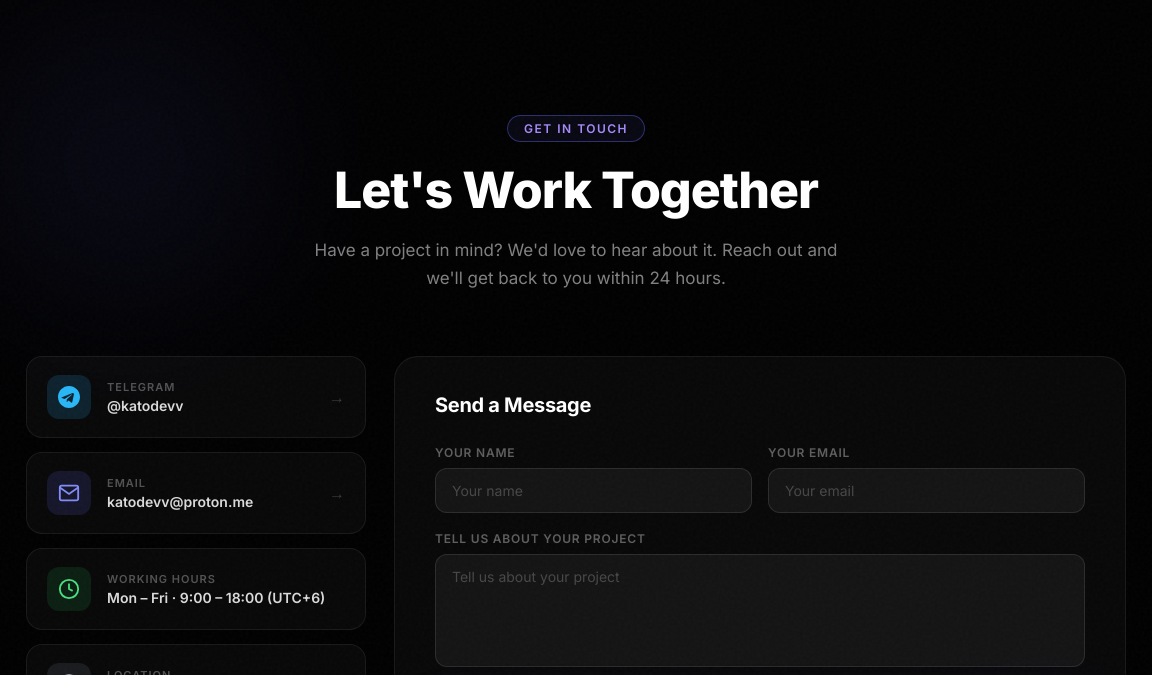
Test: shows an error message when the request fails
Type "Ada" into the field with placeholder "Your name" at (594, 491), box 435,468 -> 752,513
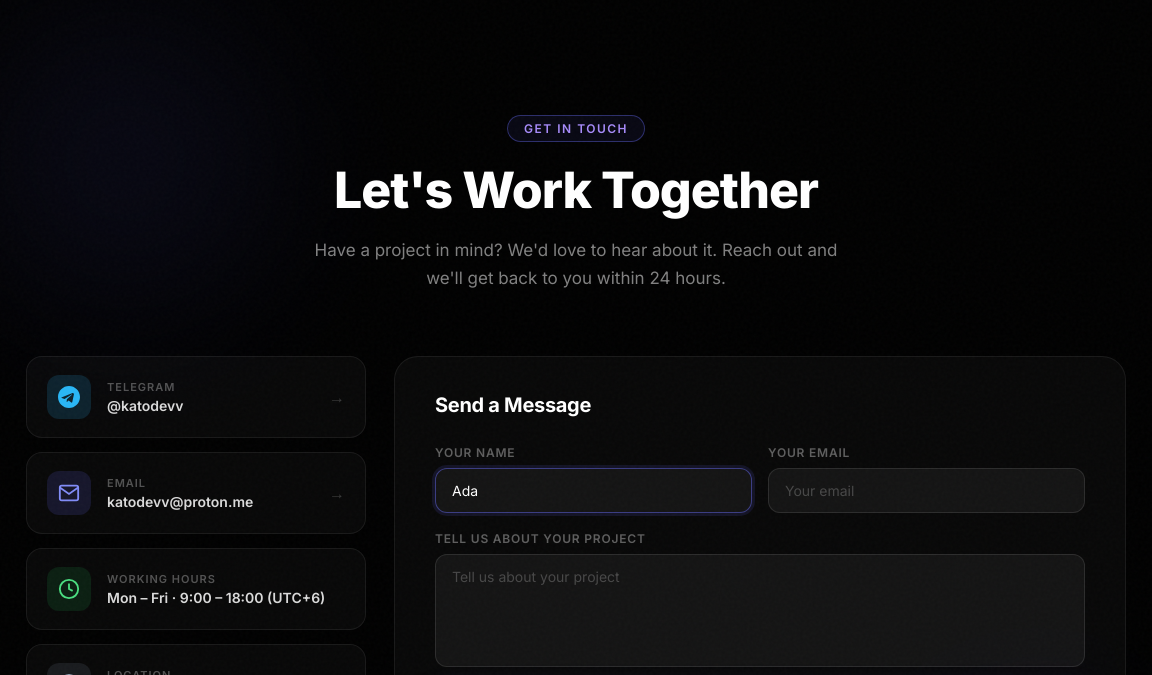
Type "ada@example.com" into the field with placeholder "Your email" at (926, 491), box 768,468 -> 1085,513
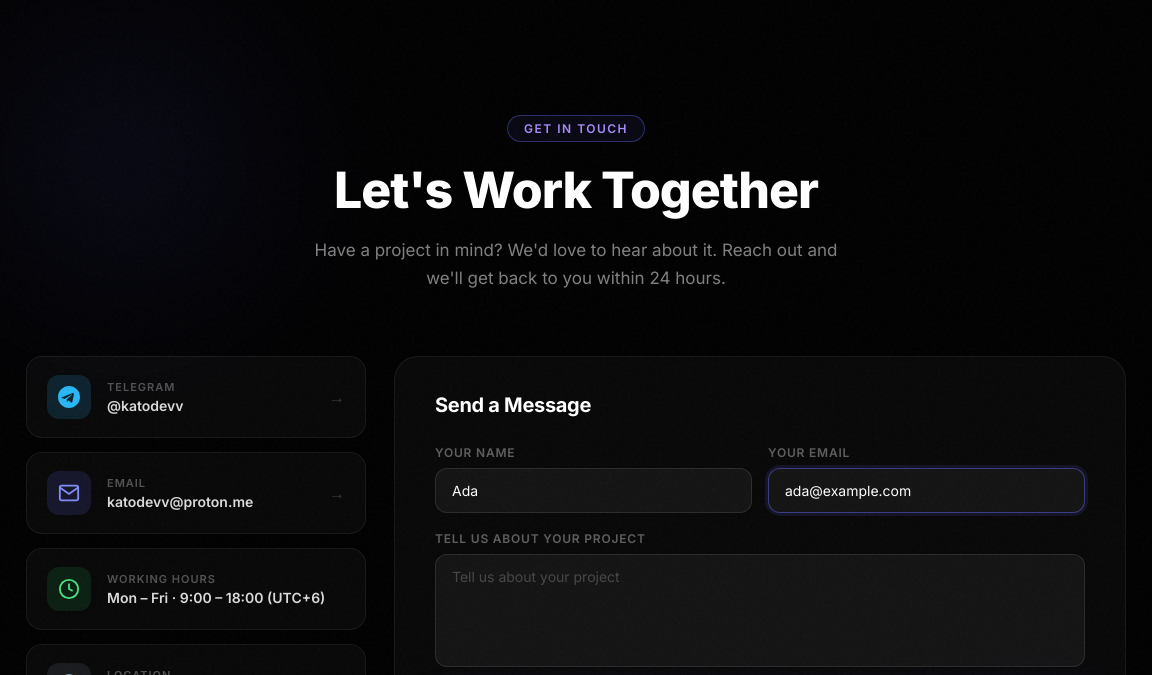
Type "I need a landing page for my shop." into the text box with placeholder "Tell us about your project" at (760, 611), box 435,554 -> 1085,667
(page scrolled)
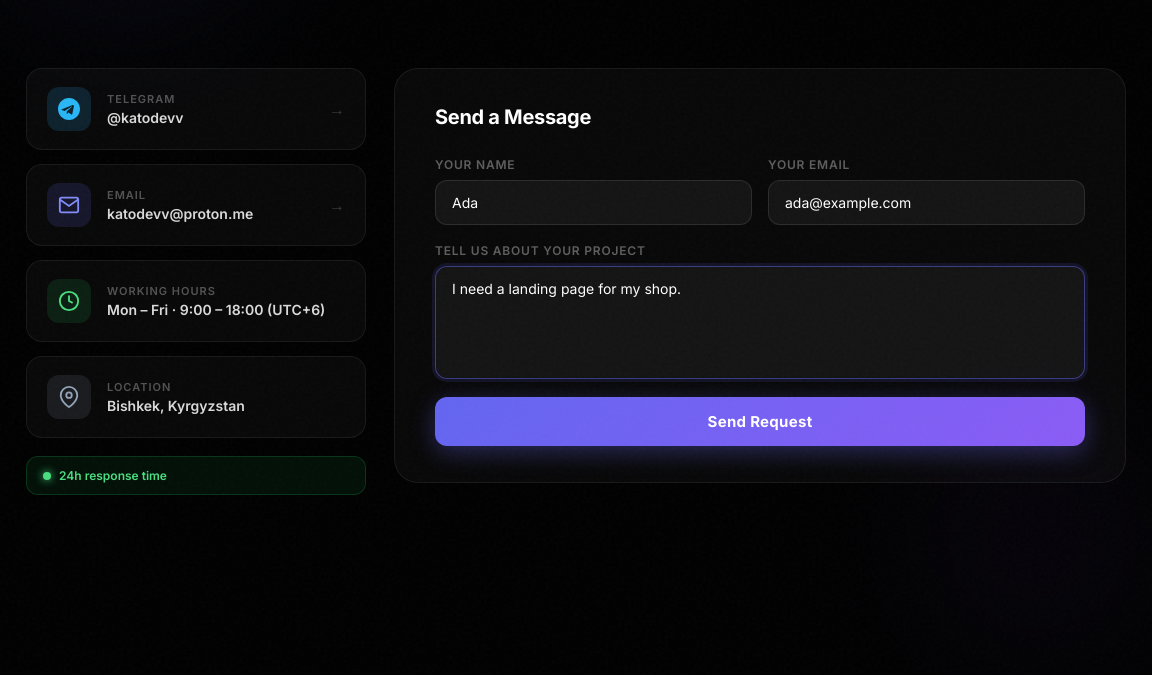
Click the button "Send Request" at (760, 422), box 435,397 -> 1085,446
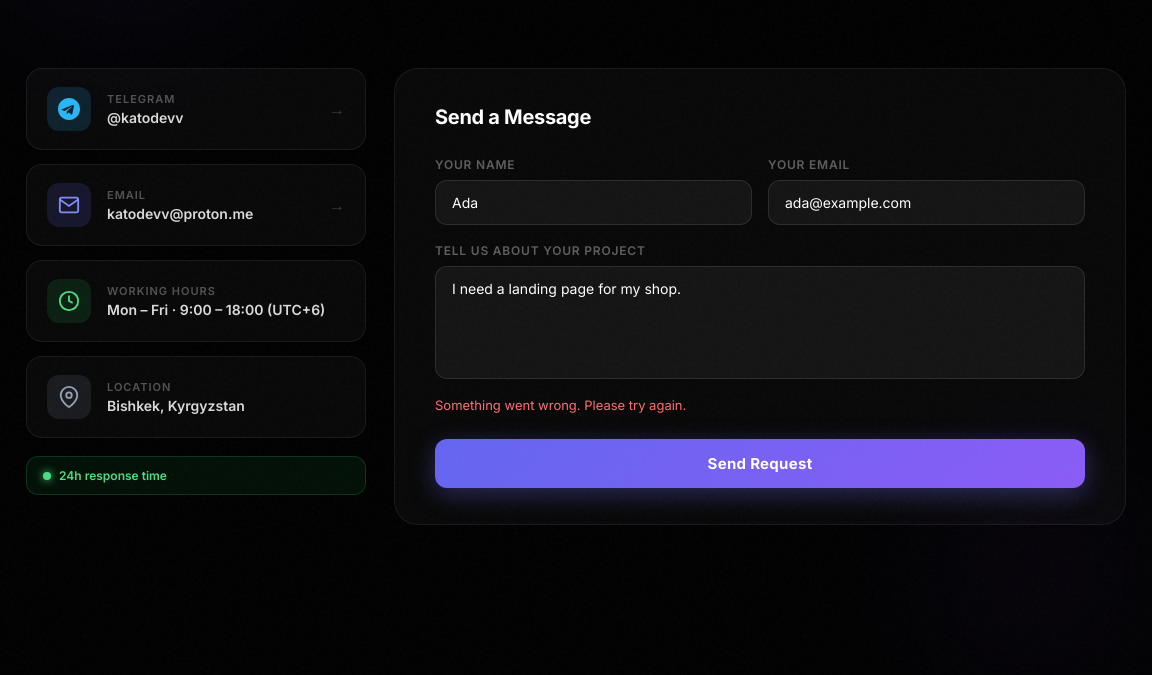
expect the text "Something went wrong. Please try again." is shown: met, box 435,397 -> 686,413
